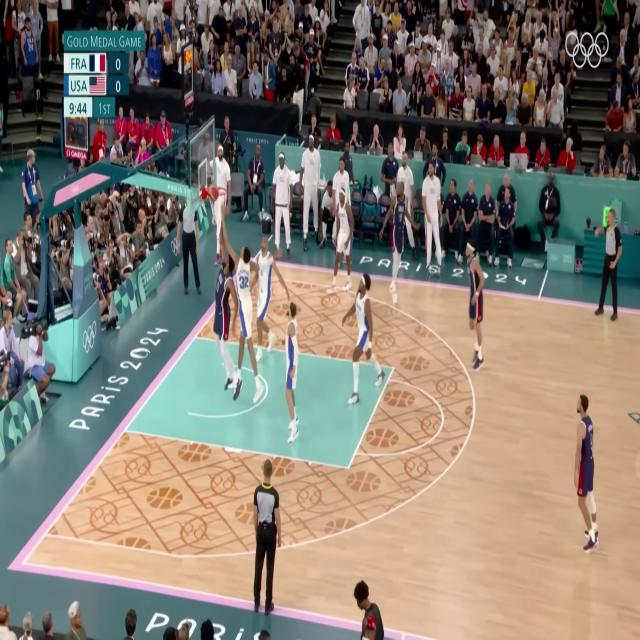player: (212, 182, 263, 408), (333, 268, 389, 418), (564, 387, 610, 560), (248, 225, 288, 372), (209, 237, 240, 402), (276, 298, 306, 454), (456, 232, 488, 376), (322, 194, 358, 282)
